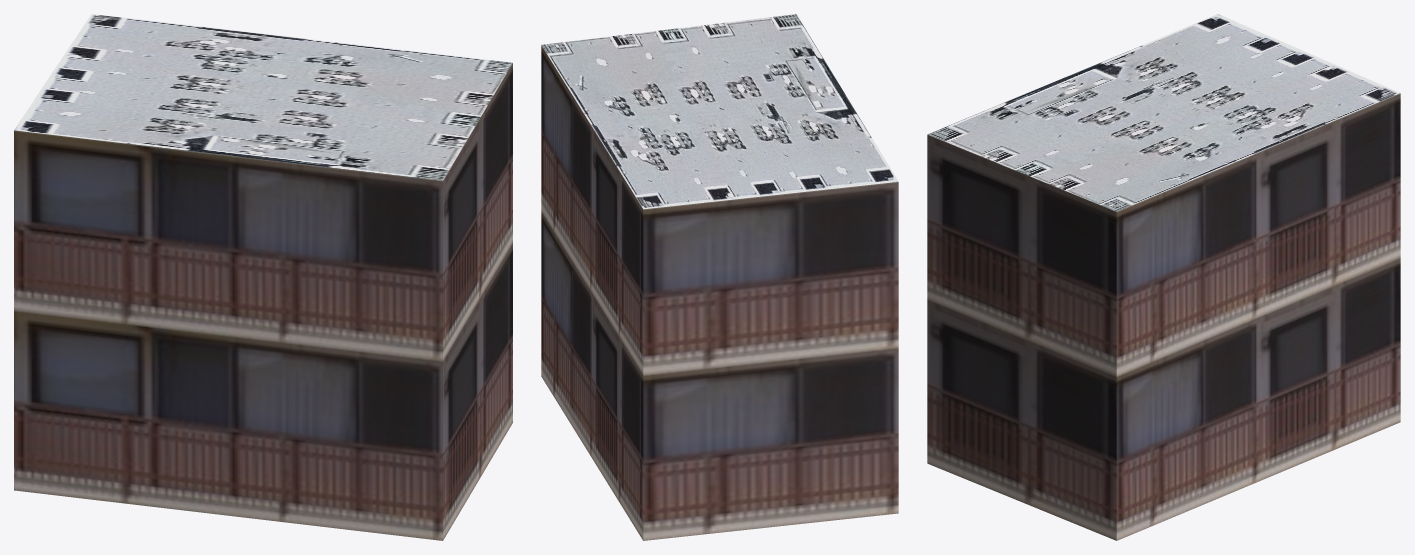
Rendered from ResTex__1553.fbx.
3 renders of one model, left to right at view 1: azimuth 30°, elevation 25°; view 2: azimuth 150°, elevation 25°; view 3: azimuth 270°, elevation 25°, orthographic. The views are drawn at different scales.
Parts seen in each view (by area): view 1: CityEngineMaterial_6_m, CityEngineMaterial_m; view 2: CityEngineMaterial_6_m, CityEngineMaterial_m; view 3: CityEngineMaterial_6_m, CityEngineMaterial_m.
Part boxes in pixels (<box>): CityEngineMaterial_6_m: <box>14,63,512,540</box>; CityEngineMaterial_m: <box>14,14,512,180</box>; CityEngineMaterial_6_m: <box>541,45,898,540</box>; CityEngineMaterial_m: <box>541,14,898,209</box>; CityEngineMaterial_6_m: <box>927,93,1400,540</box>; CityEngineMaterial_m: <box>927,14,1400,211</box>.
Size of the model in its own units: 7.73 by 6 by 7.82.
Materials: 2 (2 with a texture image).
